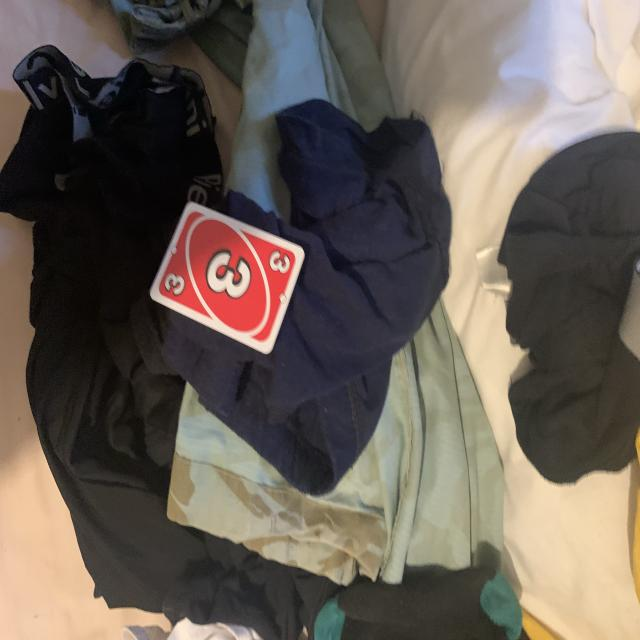lred-3: (159, 268, 188, 299)
